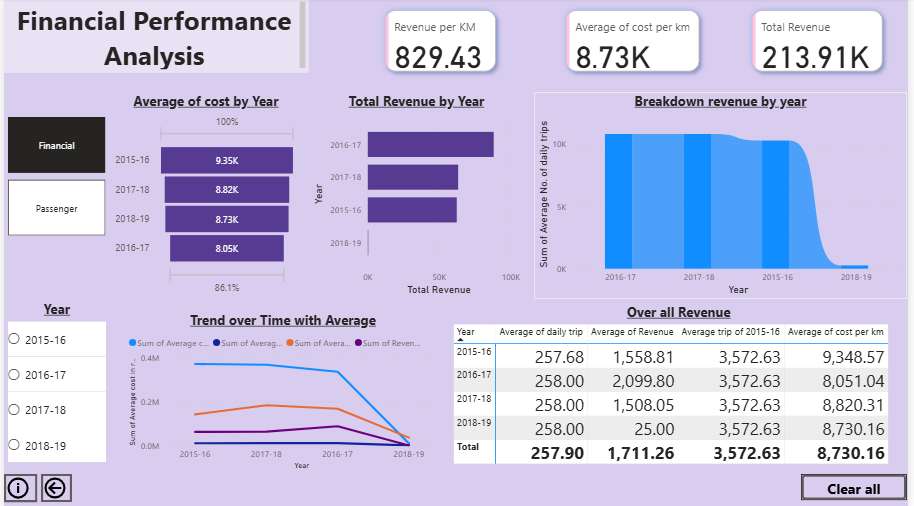

This screenshot's page, from the dashboard's own definition file:
{"tool":"powerbi","page":{"name":"Financial ","canvas":[1280,720],"ordinal":3},"visuals":[{"type":"ribbonChart","title":"Breakdown revenue by year","fields":{"Category":["busestable.Year"],"Y":["Sum(busestable.Average No. of daily trips)"]},"box":[751.2,133.2,528.7,293.4],"z":0},{"type":"clusteredBarChart","fields":{"Category":["busestable.Year"],"Y":["revenue measure.Total Revenue"]},"box":[432.3,133.2,304.7,293.4],"z":1000},{"type":"funnel","title":"Average of cost by Year","fields":{"Category":["busestable.Year"],"Y":["cost measure.Average of cost"]},"box":[153.1,133.2,266.5,293.4],"z":2000},{"type":"pivotTable","title":"Over all Revenue ","fields":{"Rows":["busestable.Year"],"Values":["daily trip.Average of daily trip","revenue measure.Average of Revenue","trip length measure.Average trip of 2015-16","cost measure.Average of cost"]},"box":[631.4,432.9,648.6,238.6],"z":3000},{"type":"lineChart","title":"Trend over Time with Average","fields":{"Y":["Sum(busestable.Average cost per km in rupees (daily))","Sum(busestable.Average No. of daily trips)","Sum(busestable.Average Trip length in km (daily))","Sum(busestable.Revenue per km in rupees)"],"Category":["busestable.Year"]},"box":[171.5,443.6,447.9,229.6],"z":4000},{"type":"cardVisual","fields":{"Data":["revenue measure.Revenue per KM"]},"box":[523,0,191.3,121.9],"z":5000},{"type":"textbox","box":[0,0,432.3,106.3],"z":6000},{"type":"cardVisual","fields":{"Data":["cost measure.Average of cost per km"]},"box":[779.5,0,223.9,121.9],"z":7000},{"type":"cardVisual","fields":{"Data":["revenue measure.Total Revenue"]},"box":[1043.1,0,219.7,121.9],"z":8000},{"type":"pageNavigator","box":[5.7,168.7,138.9,168.7],"z":9000},{"type":"listSlicer","fields":{"Values":["busestable.Year"]},"box":[0,428.6,150,235.7],"z":10000},{"type":"actionButton","box":[1130,674.3,150,37.1],"z":11000},{"type":"actionButton","box":[0,674.3,47.1,40],"z":12000},{"type":"actionButton","box":[52.4,674.6,43.9,39.7],"z":13000}]}

Visuals, with their boxes in screenshot pixels (x1, y1, x2, y2), scaled from the page's 1280x720 canvas onto the 914x506 screenshot:
"Breakdown revenue by year" ribbonChart: (536, 94, 913, 300)
clusteredBarChart - busestable.Year x revenue measure.Total Revenue: (309, 94, 526, 300)
"Average of cost by Year" funnel: (109, 94, 300, 300)
"Over all Revenue " pivotTable: (451, 304, 913, 472)
"Trend over Time with Average" lineChart: (122, 312, 442, 473)
cardVisual - revenue measure.Revenue per KM: (373, 0, 510, 86)
textbox: (0, 0, 309, 75)
cardVisual - cost measure.Average of cost per km: (557, 0, 716, 86)
cardVisual - revenue measure.Total Revenue: (745, 0, 902, 86)
pageNavigator: (4, 119, 103, 237)
listSlicer - busestable.Year: (0, 301, 107, 467)
actionButton: (807, 474, 913, 500)
actionButton: (0, 474, 34, 502)
actionButton: (37, 474, 69, 502)
